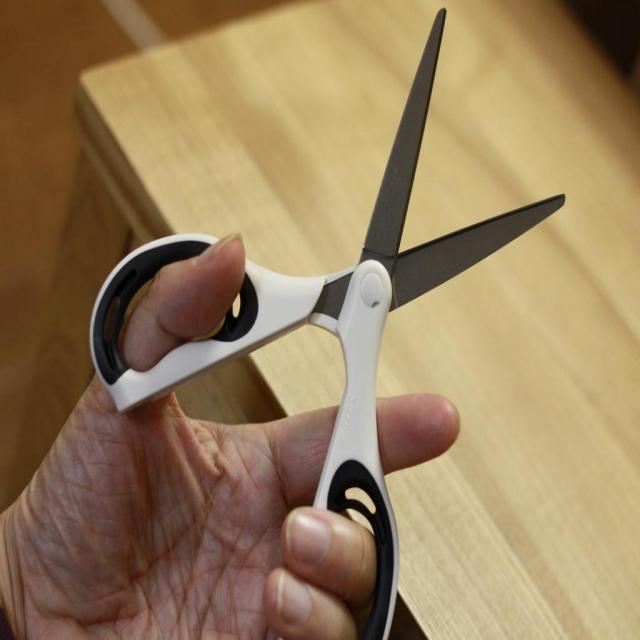scissor: (88, 6, 569, 640)
